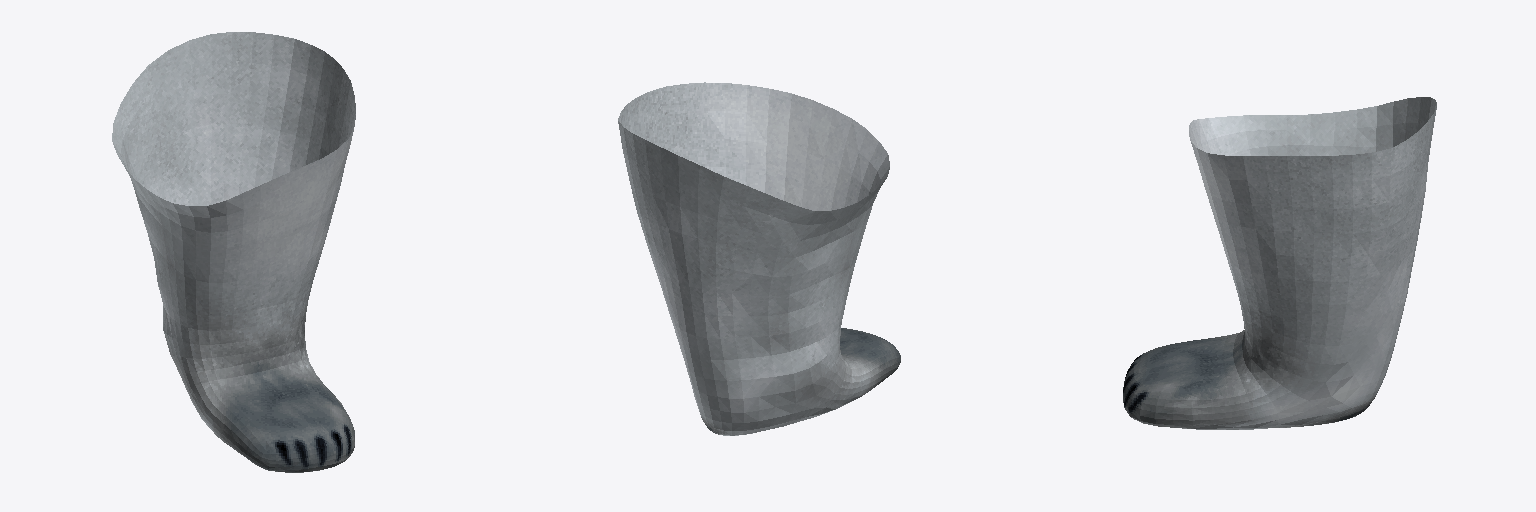
3 renders of one model, left to right at view 1: azimuth 30°, elevation 25°; view 2: azimuth 150°, elevation 25°; view 3: azimuth 270°, elevation 25°, orthographic.
Visible parts, largest first — view 1: Polar_Bear_Quad.003; view 2: Polar_Bear_Quad.003; view 3: Polar_Bear_Quad.003.
Boxes of the visible parts, x1=… form: Polar_Bear_Quad.003: x1=112, y1=32, x2=355, y2=472; Polar_Bear_Quad.003: x1=618, y1=82, x2=900, y2=435; Polar_Bear_Quad.003: x1=1123, y1=97, x2=1436, y2=429.
Size of the model in its own units: 0.3641 by 0.5222 by 0.4697.
Materials: 1 (1 with a texture image).